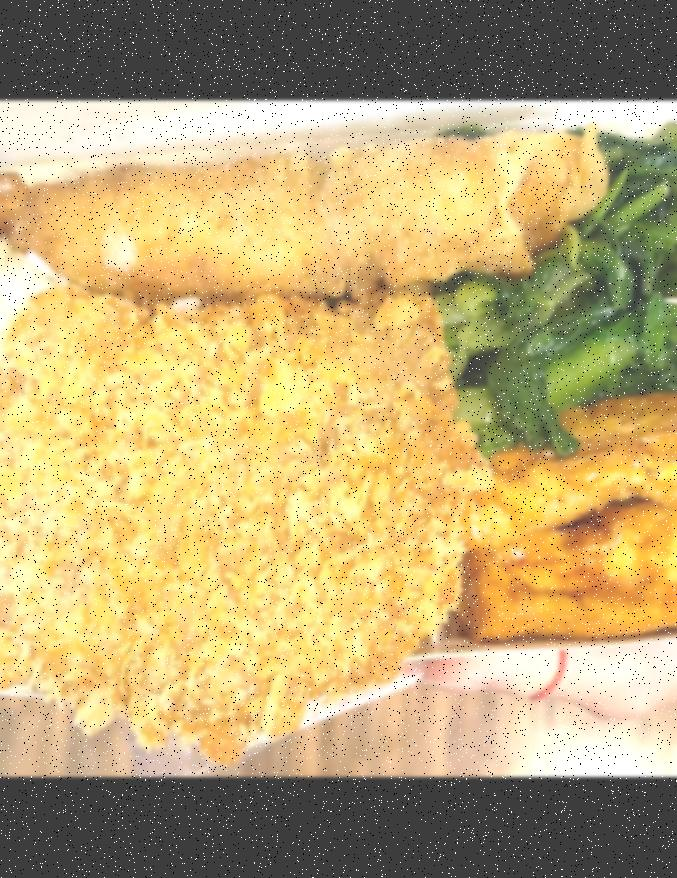box: (0, 113, 677, 699)
fried chicken rolls: (0, 129, 602, 304)
fried pork chops: (0, 283, 480, 769)
side dish: (423, 120, 677, 441), (428, 395, 677, 647)
white rice: (0, 252, 52, 431)
